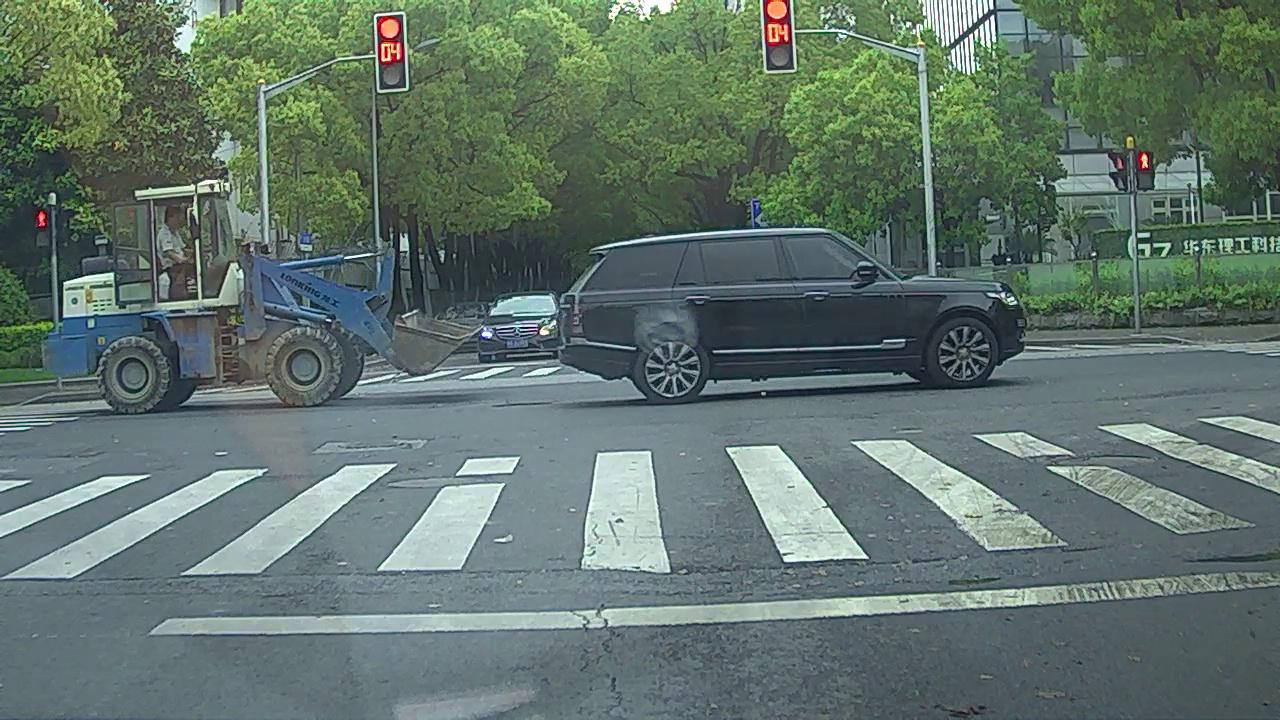traffic_light: (764, 1, 795, 70), (377, 16, 406, 88)
